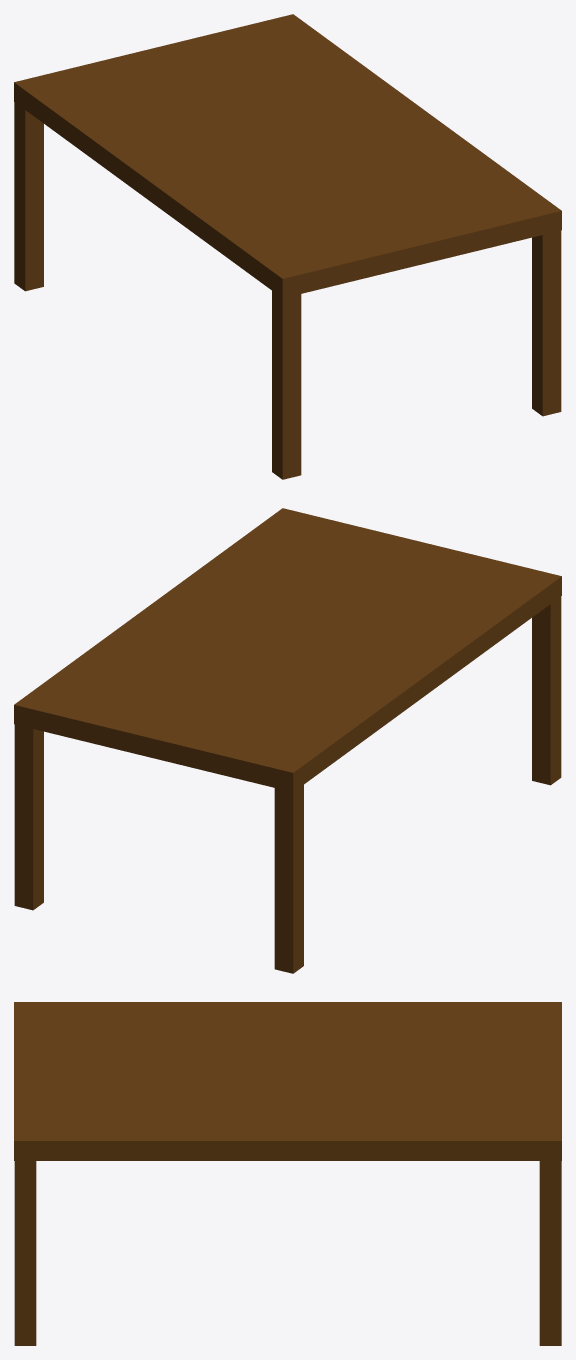
File: blankTable.fbx
3 renders of one model, top to bottom at view 1: azimuth 30°, elevation 25°; view 2: azimuth 150°, elevation 25°; view 3: azimuth 270°, elevation 25°, orthographic.
Visible parts, largest first — view 1: Cube.002; view 2: Cube.002; view 3: Cube.002.
Boxes of the visible parts, x1,y1,x2,y2 form: Cube.002: (14, 14, 561, 479); Cube.002: (14, 508, 561, 973); Cube.002: (14, 1002, 561, 1345).
Bounding box in the file's own units: 600 × 413 × 1000.
